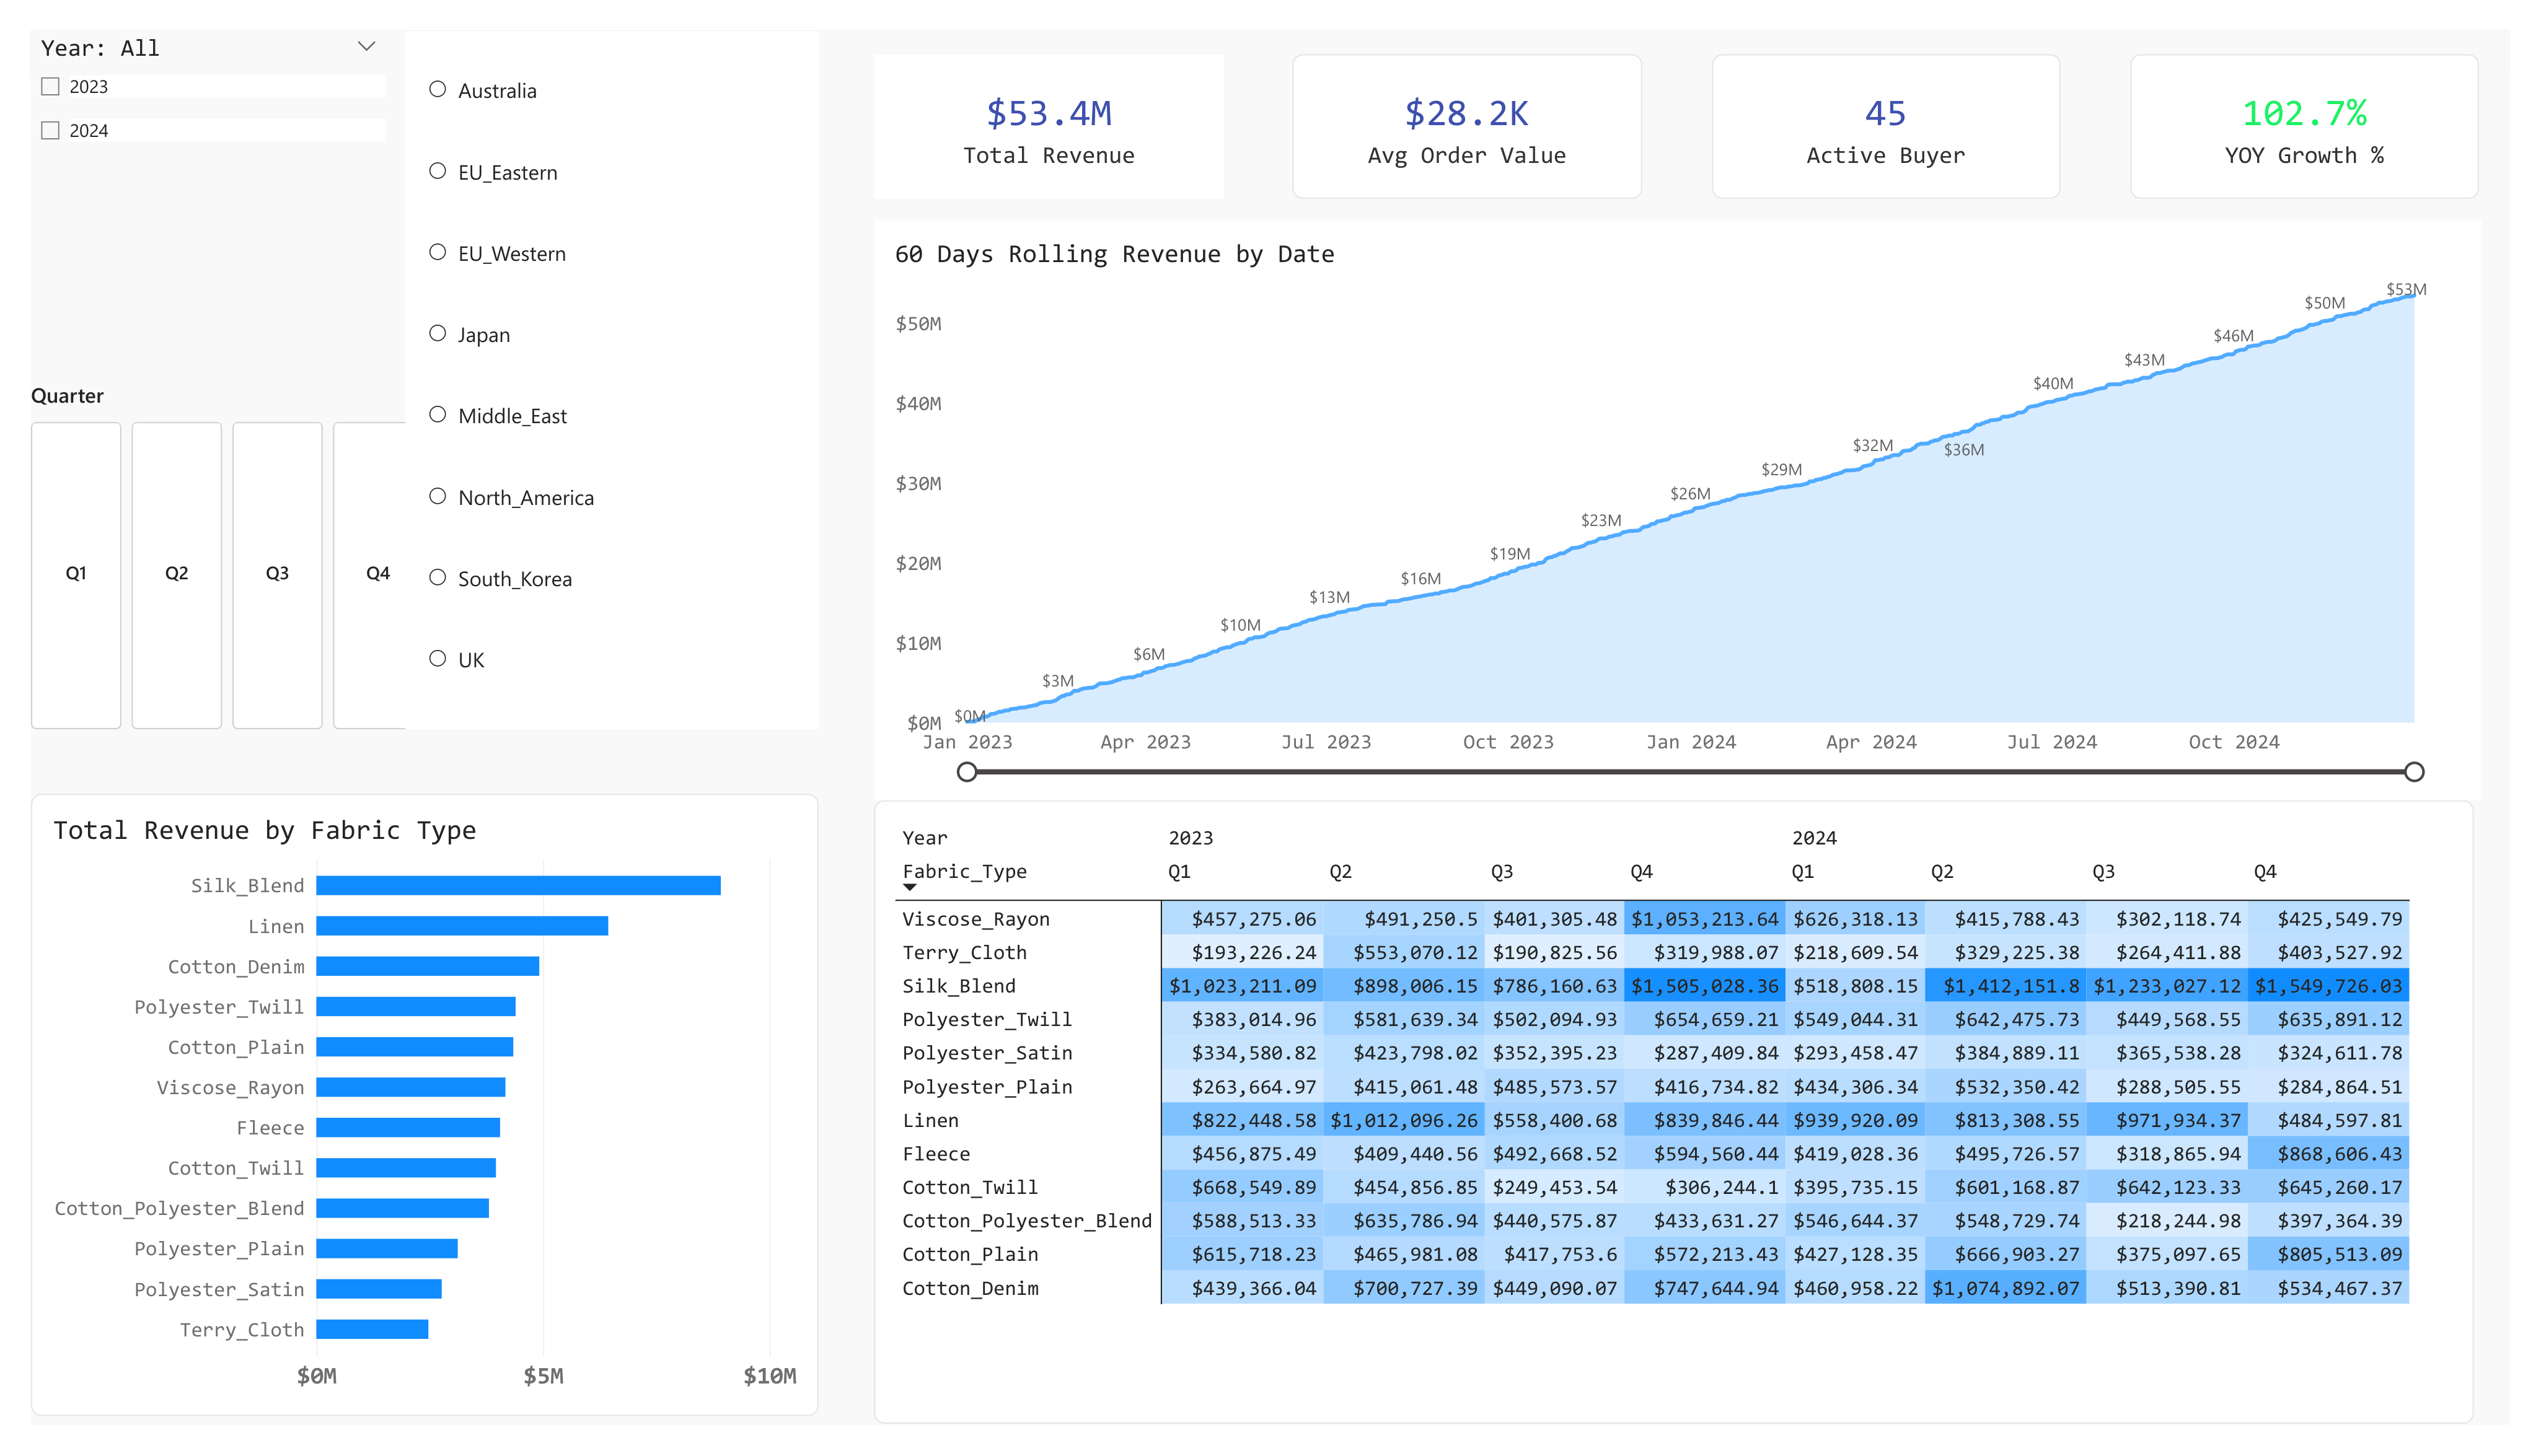

The dashboard page shown, as its layout file describes it:
{"tool":"powerbi","page":{"name":"Product Analysis","canvas":[1920,1080],"ordinal":1},"visuals":[{"type":"slicer","fields":{"Values":["DateTable.Year"]},"box":[0,2.2,274.8,253.2],"z":0,"group":"g2"},{"type":"card","fields":{"Values":["Measure Table.Total Revenue"]},"box":[653.4,18.4,270.6,112.1],"z":0,"group":"g1"},{"type":"barChart","title":"Total Revenue by Fabric Type","fields":{"Category":["orders.Fabric_Type"],"Y":["Measure Table.Total Revenue"]},"box":[0,590.8,610.3,482.6],"z":0},{"type":"card","fields":{"Values":["Measure Table.Avg Order Value"]},"box":[977.7,18.4,270.6,112.1],"z":1000,"group":"g1"},{"type":"advancedSlicerVisual","fields":{"Values":["DateTable.Quarter"]},"box":[0,270.5,305.1,270.5],"z":1000,"group":"g2"},{"type":"pivotTable","fields":{"Columns":["DateTable.Year","DateTable.Quarter"],"Rows":["orders.Fabric_Type"],"Values":["Measure Table.Total Revenue"]},"box":[653.4,596.3,1238.7,482.2],"z":1000},{"type":"listSlicer","fields":{"Values":["buyers.Region"]},"box":[290,0,320.3,541],"z":2000,"group":"g2"},{"type":"card","fields":{"Values":["Measure Table.Active Buyer"]},"box":[1301.9,18.4,270.6,112.1],"z":2000,"group":"g1"},{"type":"lineChart","fields":{"Category":["DateTable.Date"],"Y":["Measure Table.60 Days Rolling Revenue"]},"box":[653.4,147.2,1244.2,449.1],"z":2000},{"type":"group","id":"g1","title":"KPI Cards","box":[653.4,18.4,1244.2,112.3],"z":3000},{"type":"card","fields":{"Values":["Measure Table.YOY Growth %"]},"box":[1626.2,18.4,270.6,112.1],"z":3000,"group":"g1"},{"type":"group","id":"g2","title":"Slicer","box":[0,0,610.3,541],"z":4000}]}

Visuals, with their boxes on the page's 1920x1080 design canvas (x1, y1, x2, y2). These are canvas units, not pixel positions in the 2541x1456 screenshot, which may show the page scaled, cropped or inside an application window:
slicer - DateTable.Year: 0:2:275:255
card - Measure Table.Total Revenue: 653:18:924:130
"Total Revenue by Fabric Type" barChart: 0:591:610:1073
card - Measure Table.Avg Order Value: 978:18:1248:130
advancedSlicerVisual - DateTable.Quarter: 0:270:305:541
pivotTable - DateTable.Year x DateTable.Quarter: 653:596:1892:1078
listSlicer - buyers.Region: 290:0:610:541
card - Measure Table.Active Buyer: 1302:18:1572:130
lineChart - DateTable.Date x Measure Table.60 Days Rolling Revenue: 653:147:1898:596
"KPI Cards" group: 653:18:1898:131
card - Measure Table.YOY Growth %: 1626:18:1897:130
"Slicer" group: 0:0:610:541
